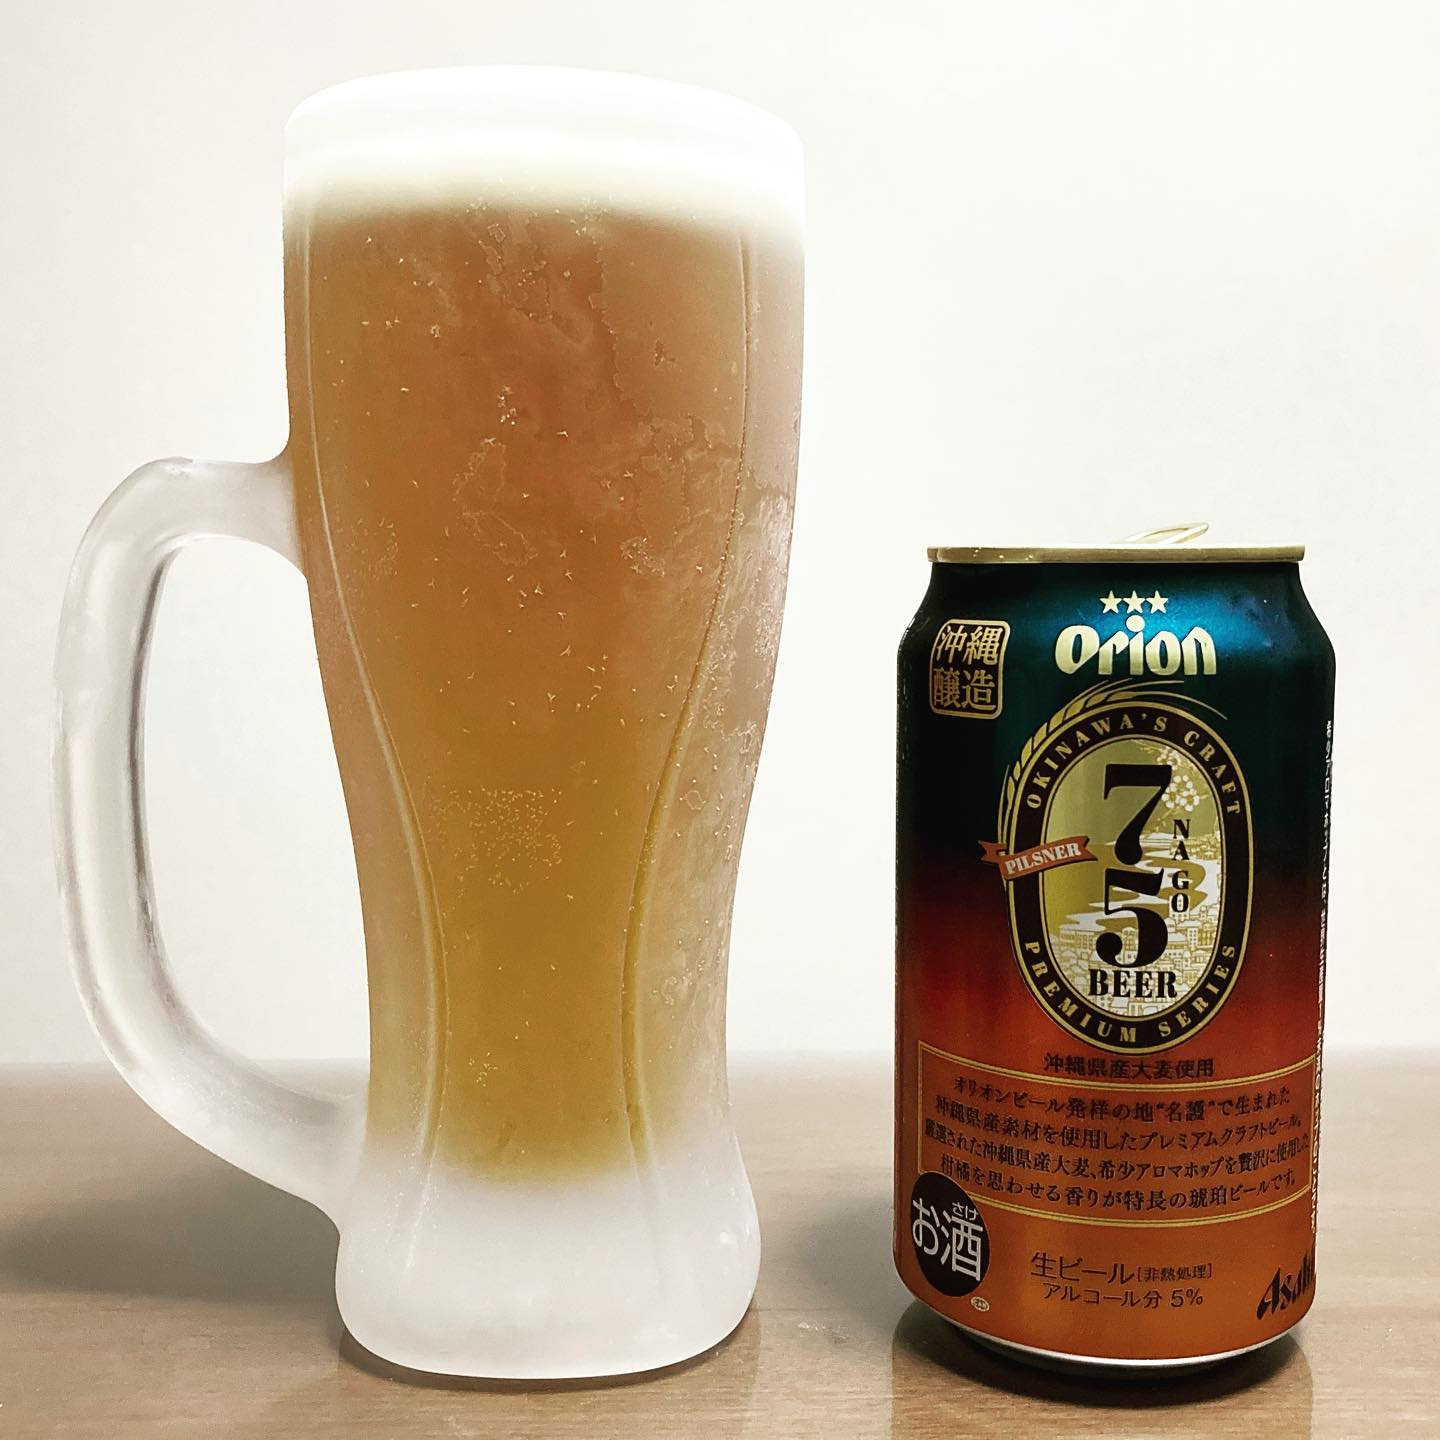alcohol: (272, 55, 818, 1396), (882, 510, 1344, 1393)
